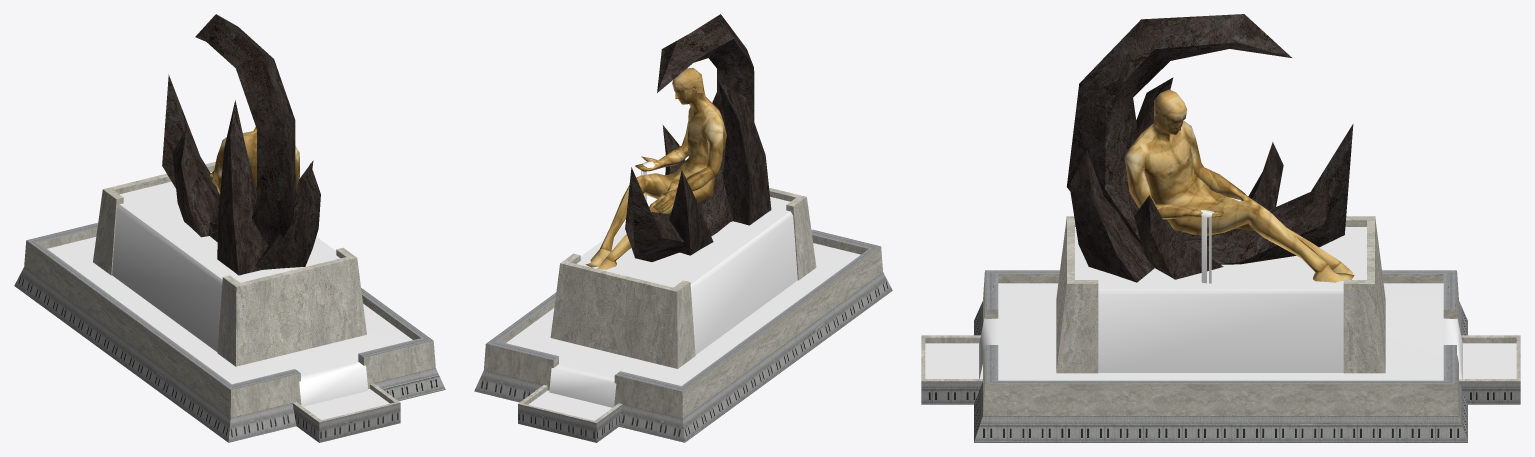
File: thm_corl_fountain_statue_contemplate_s01_l1.fbx
3 renders of one model, left to right at view 1: azimuth 30°, elevation 25°; view 2: azimuth 150°, elevation 25°; view 3: azimuth 270°, elevation 25°, orthographic. The views are drawn at different scales.
Visible parts, largest first — view 1: mesh_node; view 2: mesh_node; view 3: mesh_node.
Part boxes in pixels (box(x1,y1,x2,y2)): mesh_node: box(14, 14, 445, 442); mesh_node: box(474, 14, 892, 442); mesh_node: box(921, 14, 1520, 442).
Bounding box in the file's own units: 4.29 × 5.98 × 8.89.
